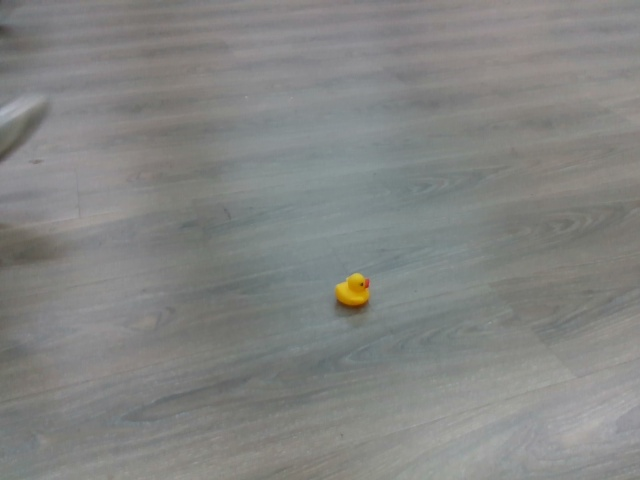duck: (334, 268, 374, 309)
